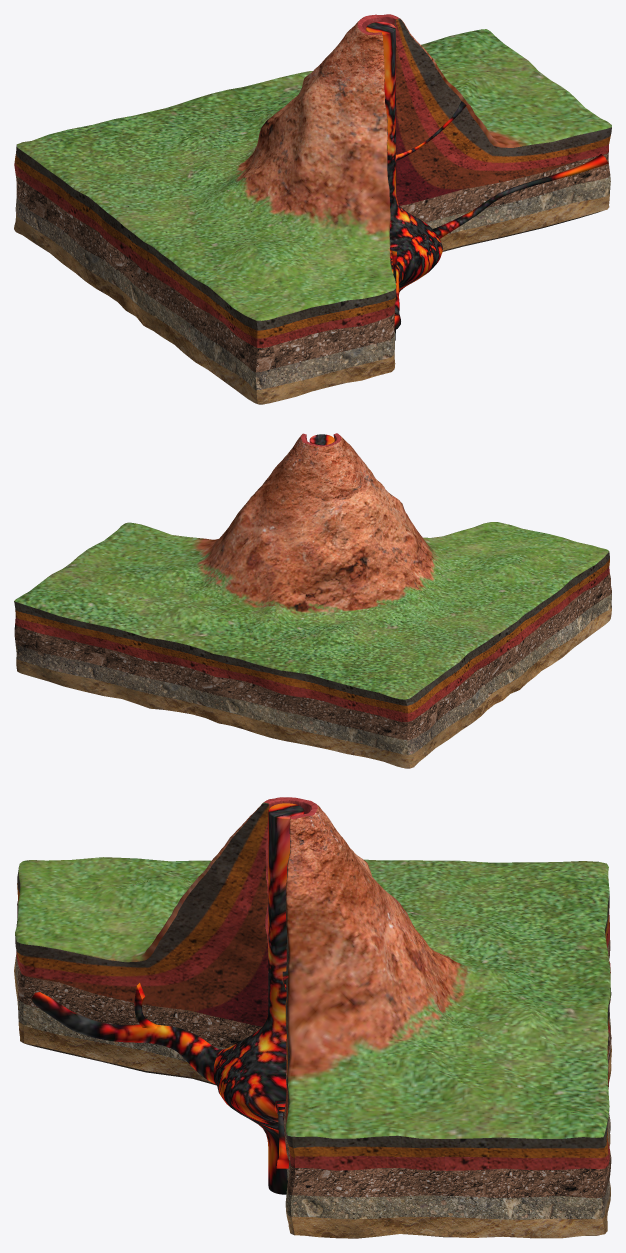
The model's file is volcano-objaverse.glb.
The picture shows the model from 3 angles, top to bottom: view 1: azimuth 30°, elevation 25°; view 2: azimuth 150°, elevation 25°; view 3: azimuth 270°, elevation 25°; orthographic projection. The views are drawn at different scales.
Visible parts, largest first — view 1: volcano, magma_chamber; view 2: volcano; view 3: volcano, magma_chamber.
Part boxes in pixels (x1,y1,x2,y2): volcano: (14, 14, 611, 404); magma_chamber: (366, 22, 608, 340); volcano: (14, 433, 611, 768); volcano: (14, 797, 611, 1238); magma_chamber: (31, 803, 304, 1194).
Bounding box in the file's own units: 0.6 × 0.38 × 0.5397.
2 materials, 2 textured.
